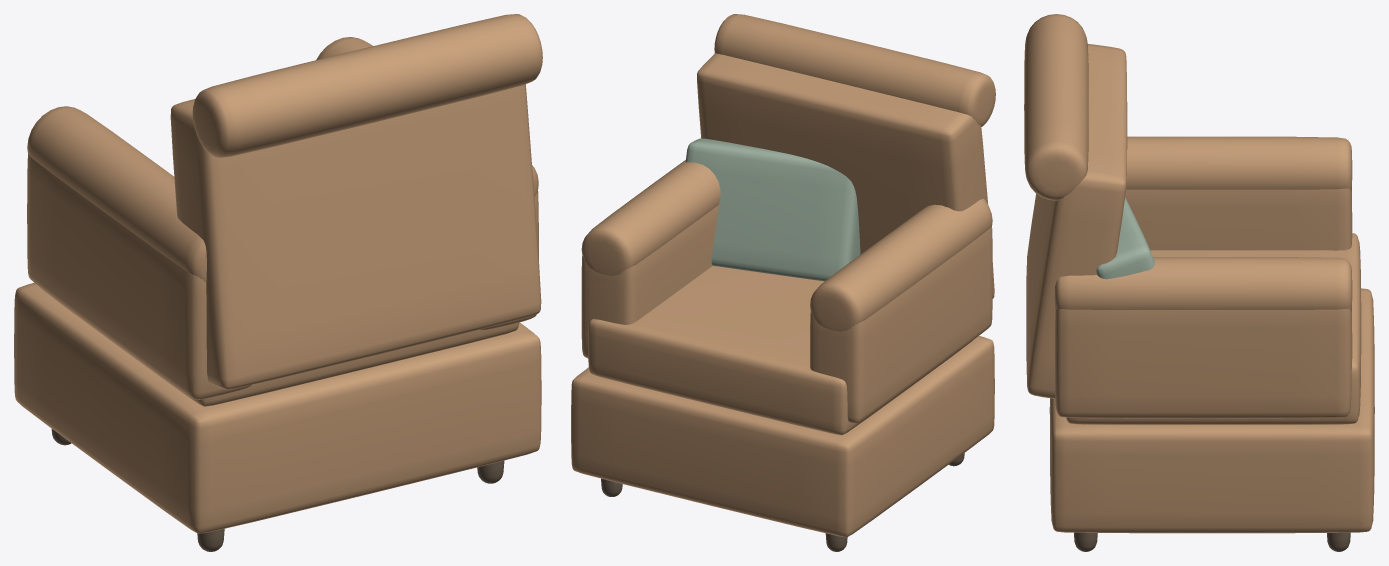
The model's file is chair_lounge.glb.
3 views of the same model, side by side, from view 1: azimuth 30°, elevation 25°; view 2: azimuth 150°, elevation 25°; view 3: azimuth 270°, elevation 25° (orthographic). The views are drawn at different scales.
Visible parts, largest first — view 1: chair_lounge; view 2: chair_lounge; view 3: chair_lounge.
Part boxes in pixels (<box>): chair_lounge: <box>14,14,542,551</box>; chair_lounge: <box>571,14,995,551</box>; chair_lounge: <box>1024,14,1374,551</box>.
Size of the model in its own units: 0.7794 by 1.01 by 0.7762.
